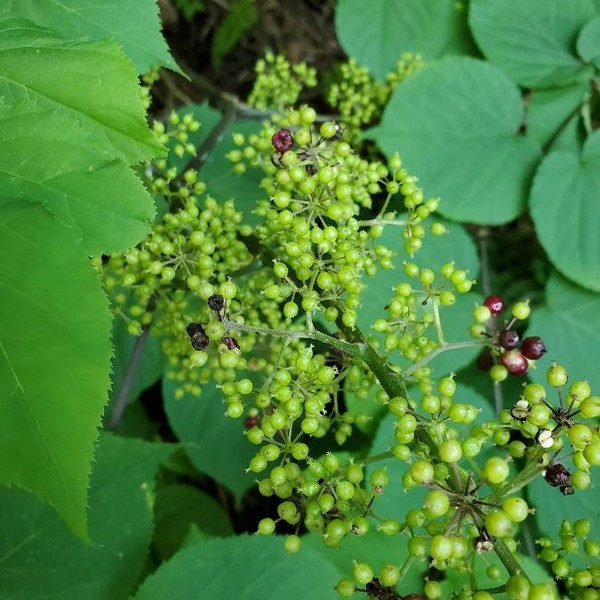obstacle: (127, 69, 548, 556), (30, 22, 153, 546), (402, 19, 591, 340)
